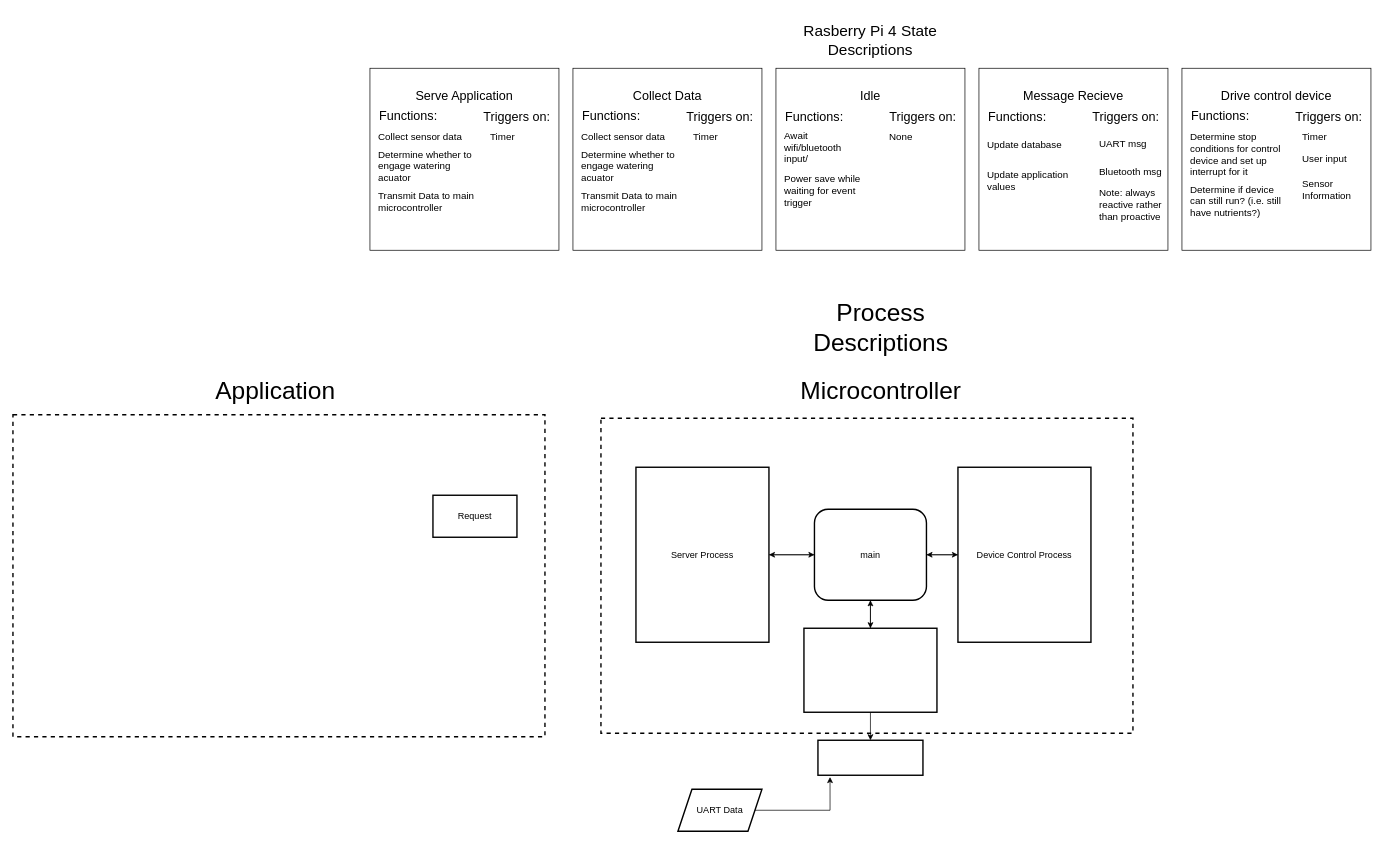
The diagram is 1383 pixels wide and 844 high, and some of its shapes have lost their labels. Here are the shapes that lost their labels. From the top down, the box of each, then its label:
(803, 627, 937, 713): Input Sensors and UART
(817, 739, 923, 776): Listener
